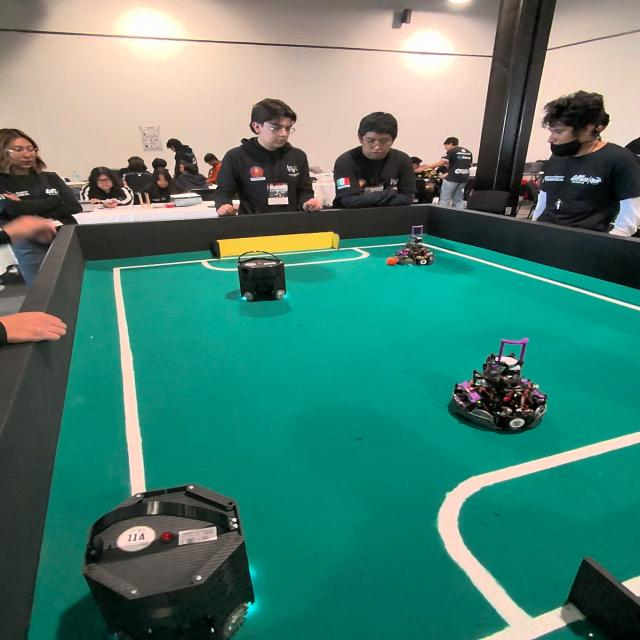Robot: (61, 477, 283, 640), (450, 344, 549, 437), (238, 249, 294, 318), (387, 232, 439, 270)
pelota: (378, 252, 405, 278)
